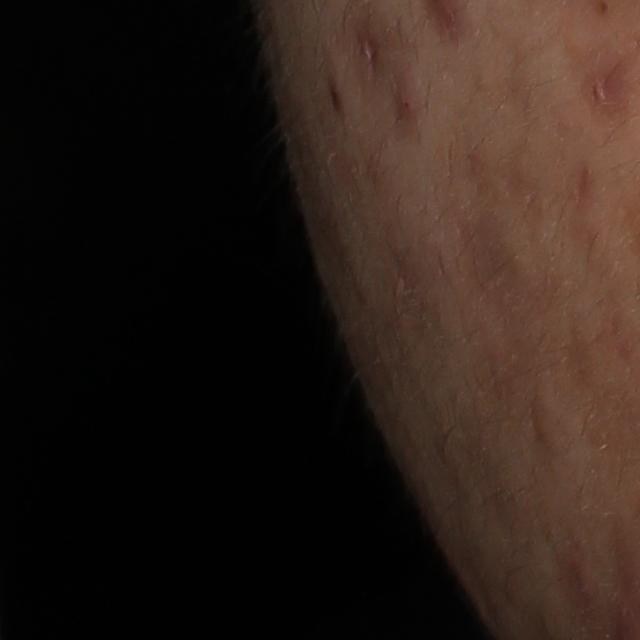papule: (395, 76, 420, 122)
